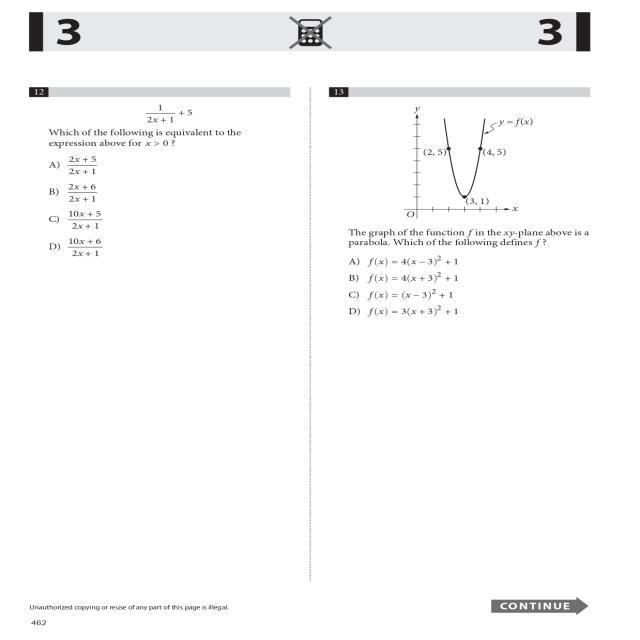Answer_Block: (26, 152, 302, 262), (322, 252, 604, 322)
Question_Answer_Block: (322, 76, 604, 322), (26, 79, 302, 261)
Question_Block: (322, 77, 604, 250), (26, 79, 302, 150)
Question_Paper_Area: (322, 76, 604, 574), (26, 79, 302, 579)
